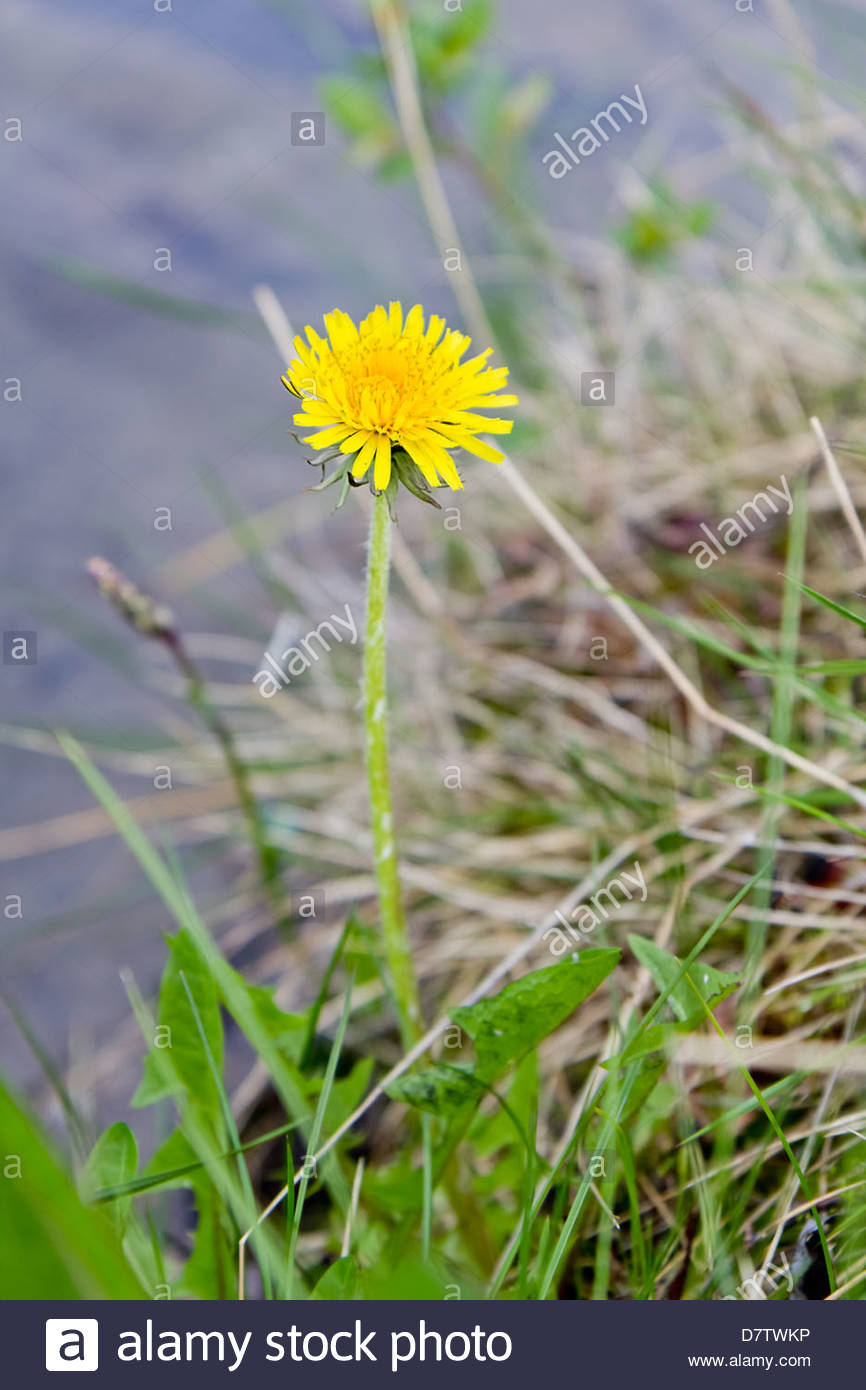dandelion: (295, 315, 507, 494)
